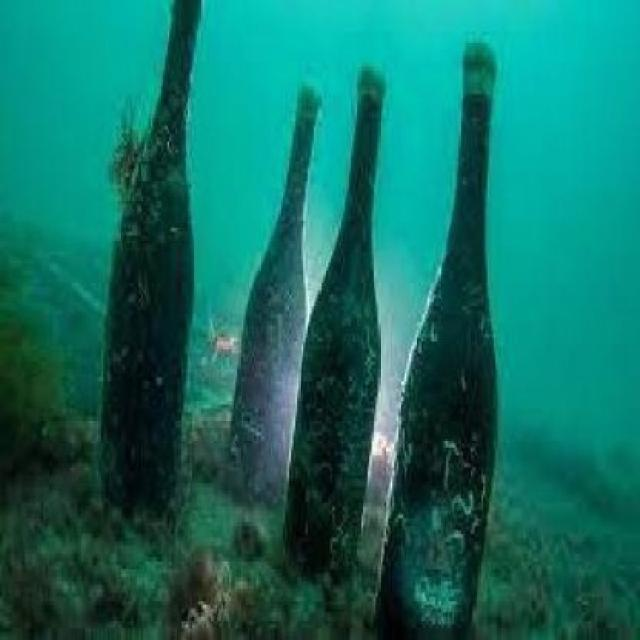gbottle: (380, 46, 502, 640), (284, 75, 390, 578), (106, 4, 202, 522), (233, 82, 322, 502)
